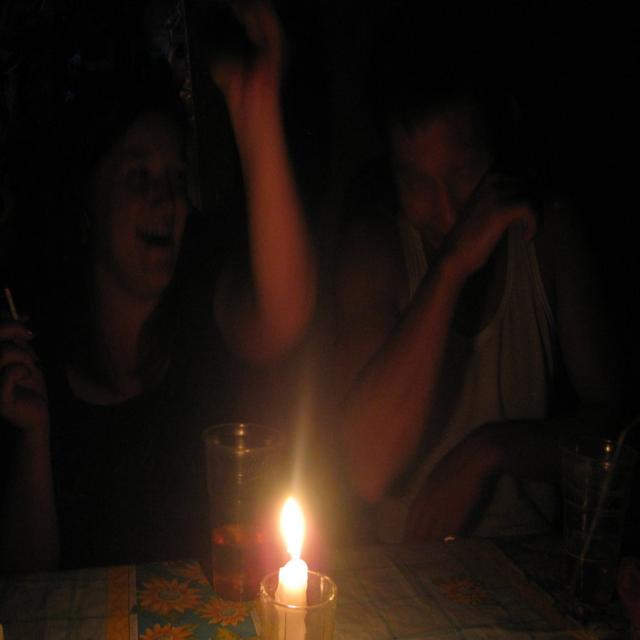Cup: (543, 407, 640, 617), (204, 409, 284, 626)
People: (0, 11, 286, 550), (359, 6, 596, 548)
Table: (2, 519, 640, 640)
